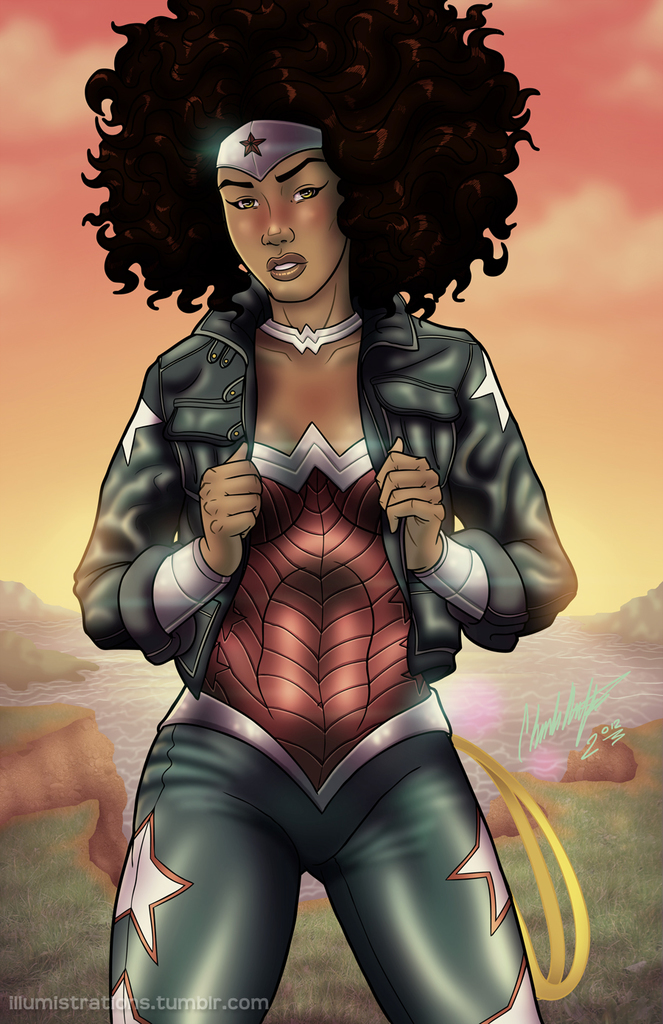face: (226, 127, 333, 307)
